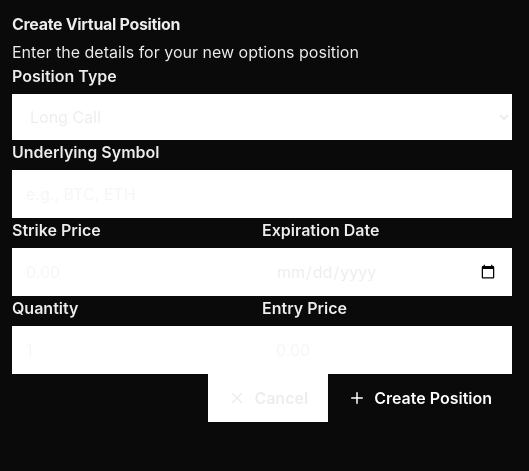
Test: CreatePositionForm › validates that strike must be positive
Type "-10" into the number field labelled "Strike Price" at point(137, 272), box [12,248,262,296]
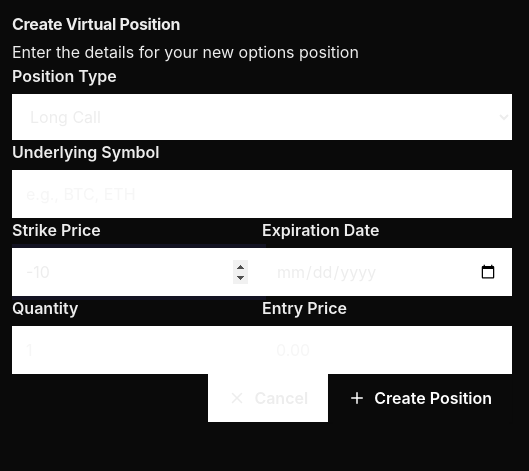
Leave the number field labelled "Strike Price", box [12,248,262,296]
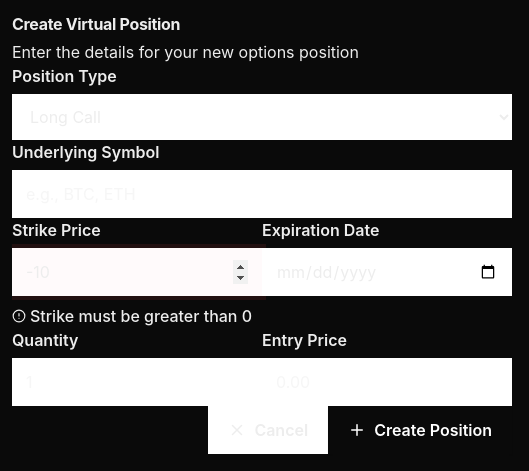
Expected: the text "Strike must be greater than 0" is shown, [12,304,262,328]
